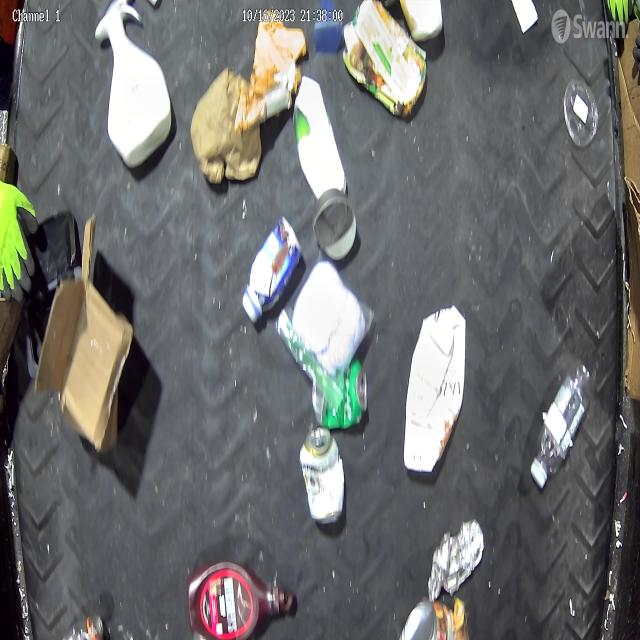can: (299, 426, 347, 526), (311, 354, 369, 432), (312, 188, 358, 262), (397, 597, 473, 640)
milk_jug: (404, 304, 466, 473), (292, 74, 347, 200)
plastic_bottle: (529, 356, 592, 490)
